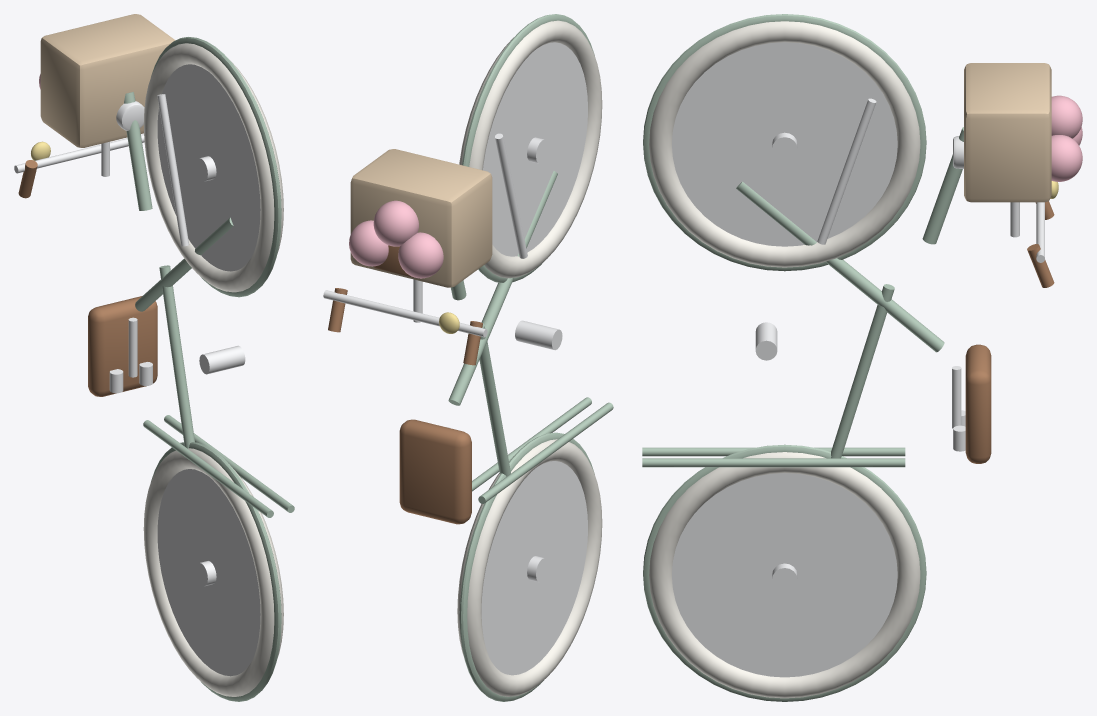
The model's file is vintage-bicycle-eliya.glb.
3 views of the same model, side by side, from view 1: azimuth 30°, elevation 25°; view 2: azimuth 150°, elevation 25°; view 3: azimuth 270°, elevation 25° (orthographic). The views are drawn at different scales.
Visible parts, largest first — view 1: bike_Rim_Rear, bike_Rim_Front, bike_WickerBasket, bike_Tire_Front, bike_Tire_Rear, bike_LeatherSaddle, bike_Fender_Front, bike_Fender_Rear, bike_SeatTube, bike_Chainstay_-0.035, bike_ForkBlade_-0.038, bike_HeadTube (+7 smaller); view 2: bike_Rim_Rear, bike_Rim_Front, bike_WickerBasket, bike_Tire_Rear, bike_Tire_Front, bike_LeatherSaddle, bike_Fender_Rear, bike_Fender_Front, bike_LoopTube, bike_Peony_-0.08, bike_Peony_0.0, bike_SeatTube (+11 smaller); view 3: bike_Rim_Rear, bike_Rim_Front, bike_Tire_Front, bike_Tire_Rear, bike_WickerBasket, bike_Fender_Front, bike_Fender_Rear, bike_LeatherSaddle, bike_LoopTube, bike_Chainstay_0.035, bike_SeatTube, bike_Chainstay_-0.035 (+5 smaller).
Part boxes in pixels (x1=…): bike_Rim_Rear: x1=157, y1=469, x2=260, y2=676; bike_Rim_Front: x1=157, y1=64, x2=260, y2=271; bike_WickerBasket: x1=40, y1=14, x2=175, y2=147; bike_Tire_Front: x1=143, y1=43, x2=283, y2=292; bike_Tire_Rear: x1=143, y1=448, x2=283, y2=696; bike_LeatherSaddle: x1=88, y1=296, x2=157, y2=396; bike_Fender_Front: x1=151, y1=37, x2=281, y2=297; bike_Fender_Rear: x1=151, y1=442, x2=281, y2=701; bike_SeatTube: x1=159, y1=265, x2=194, y2=448; bike_Chainstay_-0.035: x1=143, y1=420, x2=273, y2=517; bike_ForkBlade_-0.038: x1=157, y1=94, x2=189, y2=246; bike_HeadTube: x1=124, y1=92, x2=152, y2=210; bike_Rim_Rear: x1=481, y1=461, x2=587, y2=675; bike_Rim_Front: x1=483, y1=42, x2=587, y2=256; bike_WickerBasket: x1=350, y1=149, x2=492, y2=287; bike_Tire_Rear: x1=457, y1=439, x2=602, y2=696; bike_Tire_Front: x1=459, y1=20, x2=602, y2=278; bike_LeatherSaddle: x1=399, y1=419, x2=471, y2=524; bike_Fender_Rear: x1=459, y1=432, x2=594, y2=701; bike_Fender_Front: x1=462, y1=14, x2=594, y2=282; bike_LoopTube: x1=448, y1=171, x2=557, y2=405; bike_Peony_-0.08: x1=398, y1=232, x2=443, y2=278; bike_Peony_0.0: x1=373, y1=200, x2=418, y2=246; bike_SeatTube: x1=479, y1=323, x2=510, y2=476; bike_Rim_Rear: x1=672, y1=473, x2=897, y2=677; bike_Rim_Front: x1=672, y1=42, x2=897, y2=246; bike_Tire_Front: x1=649, y1=21, x2=920, y2=267; bike_Tire_Rear: x1=649, y1=452, x2=920, y2=698; bike_WickerBasket: x1=964, y1=63, x2=1051, y2=202; bike_Fender_Front: x1=643, y1=14, x2=926, y2=271; bike_Fender_Rear: x1=643, y1=444, x2=926, y2=701; bike_LeatherSaddle: x1=965, y1=344, x2=991, y2=463; bike_LoopTube: x1=736, y1=181, x2=944, y2=352; bike_Chainstay_0.035: x1=642, y1=458, x2=905, y2=467; bike_SeatTube: x1=831, y1=284, x2=894, y2=458; bike_Chainstay_-0.035: x1=642, y1=447, x2=905, y2=456.
Bounding box in the file's own units: 0.52 × 2.08 × 1.21.
